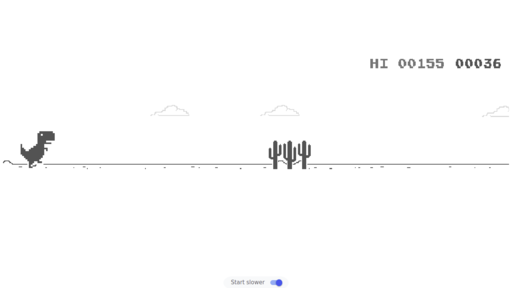dino: (19, 131, 56, 169)
tree: (268, 140, 312, 170)
